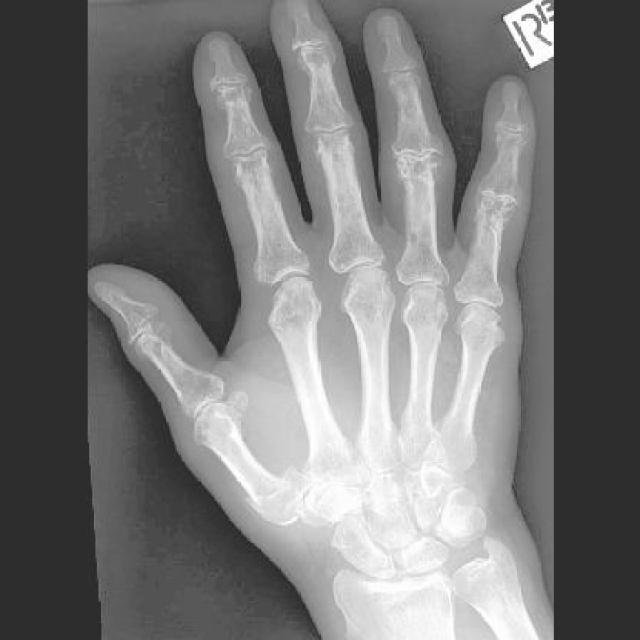Fracture: (243, 466, 299, 517)
